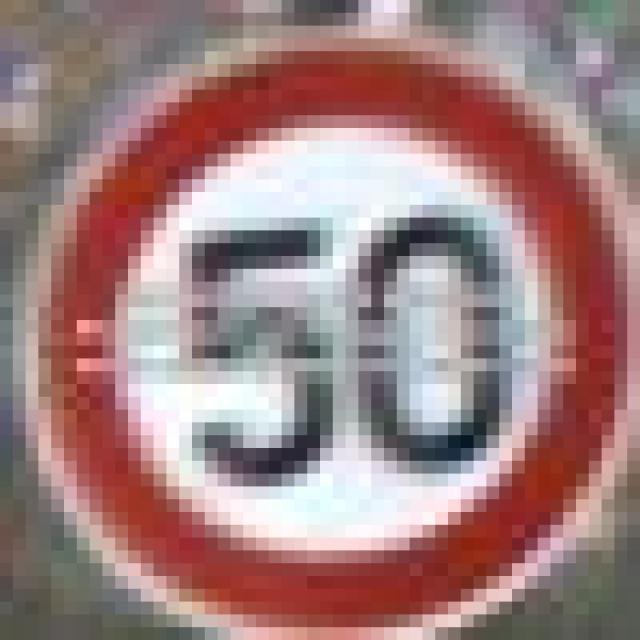SPEED_LIMIT_50: (39, 26, 602, 614)
